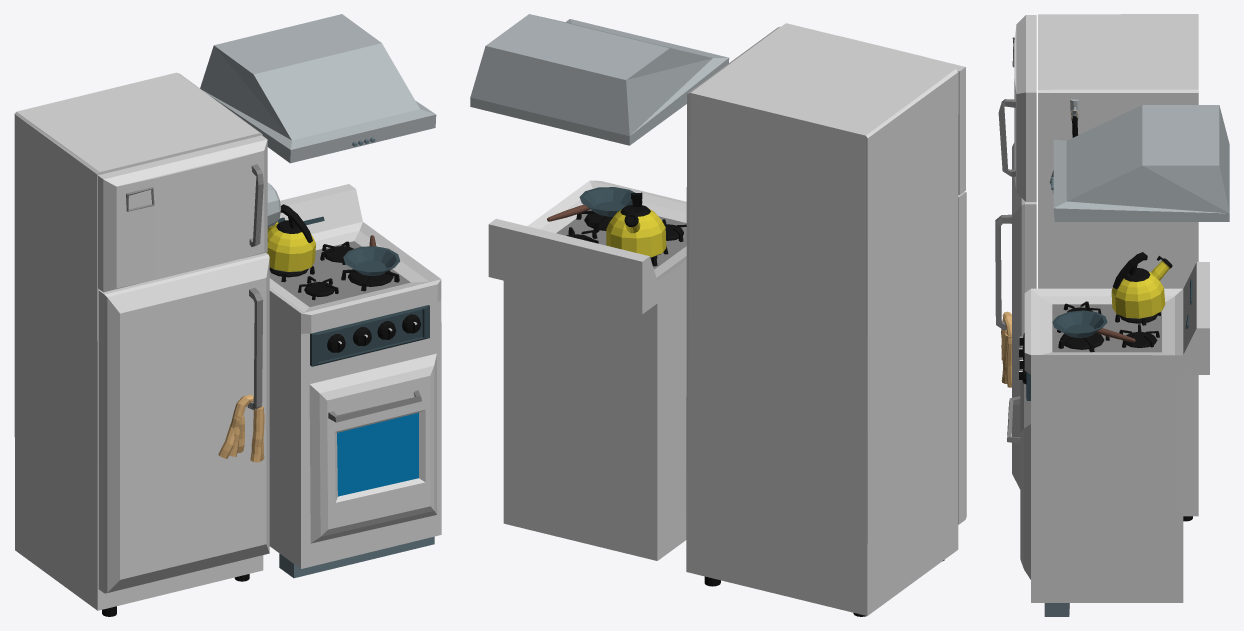
3 views of the same model, side by side, from view 1: azimuth 30°, elevation 25°; view 2: azimuth 150°, elevation 25°; view 3: azimuth 270°, elevation 25° (orthographic). The views are drawn at different scales.
Visible parts, largest first — view 1: node_MeshObject247601472-PolyPaper17; view 2: node_MeshObject247601472-PolyPaper17; view 3: node_MeshObject247601472-PolyPaper17.
Boxes of the visible parts, x1,y1,x2,y2 form: node_MeshObject247601472-PolyPaper17: (14, 14, 441, 616); node_MeshObject247601472-PolyPaper17: (470, 14, 966, 616); node_MeshObject247601472-PolyPaper17: (995, 14, 1229, 616).
Bounding box in the file's own units: 5.65 × 7.22 × 3.41.
